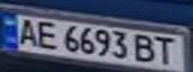3: (109, 29, 133, 61)
6: (60, 24, 81, 53), (78, 26, 96, 56)
9: (93, 27, 112, 57)
A: (12, 16, 42, 47)
B: (130, 33, 160, 64)
E: (33, 19, 60, 51)
T: (151, 35, 184, 66)
